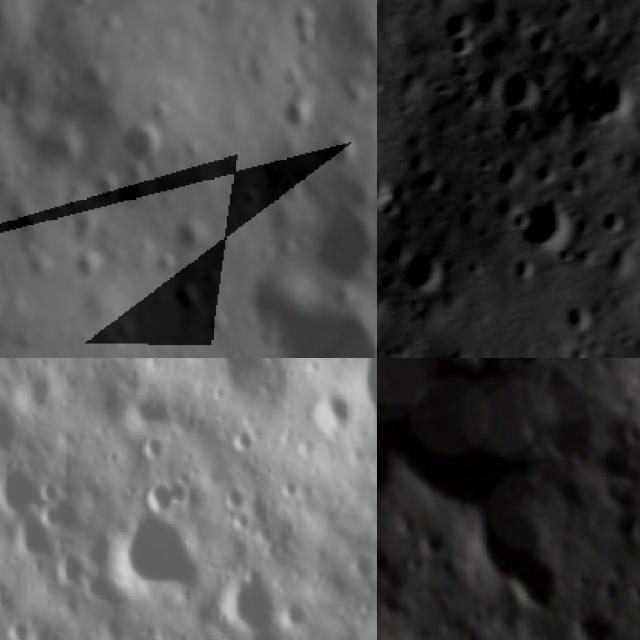crater: (239, 281, 377, 358), (118, 512, 201, 593), (316, 212, 367, 294), (512, 186, 575, 246), (583, 66, 638, 124), (304, 384, 355, 443), (234, 572, 278, 632), (398, 242, 447, 290), (496, 60, 540, 107), (8, 518, 56, 561), (116, 126, 162, 170), (463, 61, 505, 105), (0, 471, 47, 508), (333, 176, 370, 214), (600, 240, 638, 276), (561, 298, 598, 334), (0, 396, 24, 450), (76, 63, 113, 98), (498, 104, 532, 140), (286, 7, 315, 49), (438, 4, 473, 38), (348, 545, 377, 586), (88, 171, 121, 205), (166, 284, 203, 314), (62, 550, 88, 590), (174, 220, 206, 252), (600, 200, 630, 233), (69, 253, 105, 280), (447, 28, 480, 56), (327, 137, 354, 170), (277, 99, 301, 134), (396, 548, 426, 576), (145, 99, 172, 128), (232, 185, 260, 211), (142, 436, 170, 462), (229, 507, 255, 534), (284, 601, 308, 629), (150, 253, 181, 274), (329, 625, 372, 640), (508, 204, 531, 232), (121, 162, 143, 190), (222, 483, 250, 505), (234, 428, 258, 453), (280, 478, 304, 503), (623, 505, 640, 540), (59, 190, 81, 216), (67, 216, 94, 237), (565, 613, 587, 637), (181, 138, 202, 163), (7, 617, 27, 640), (377, 157, 385, 208), (566, 339, 587, 358), (216, 626, 239, 640), (632, 455, 640, 490), (0, 89, 11, 114)
